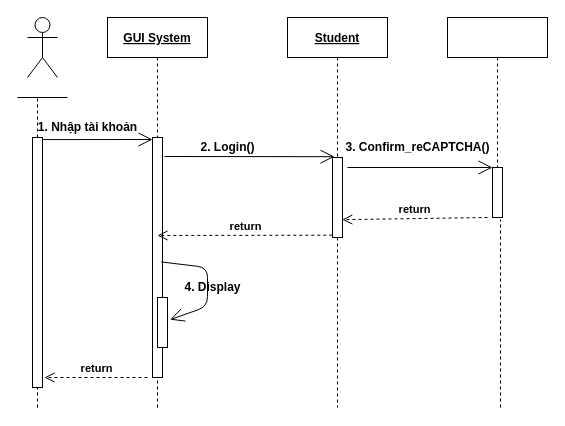
Some shapes in this 565 by 426 pixel diagram are drawn without their labels. The shapes that lost their labels are listed below. From the top down, each one's box as (x1, y1, x2, y2) in pixels, then its label:
(26, 16, 58, 78): : student
(446, 16, 548, 178): : Google
